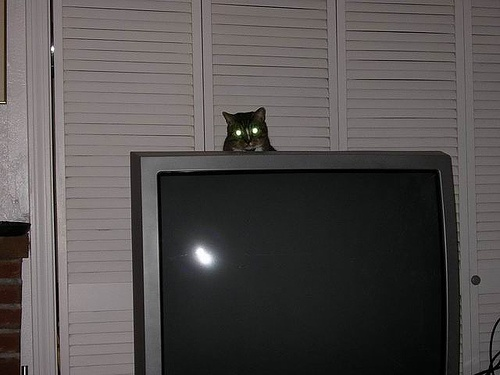cat: (221, 106, 499, 260)
